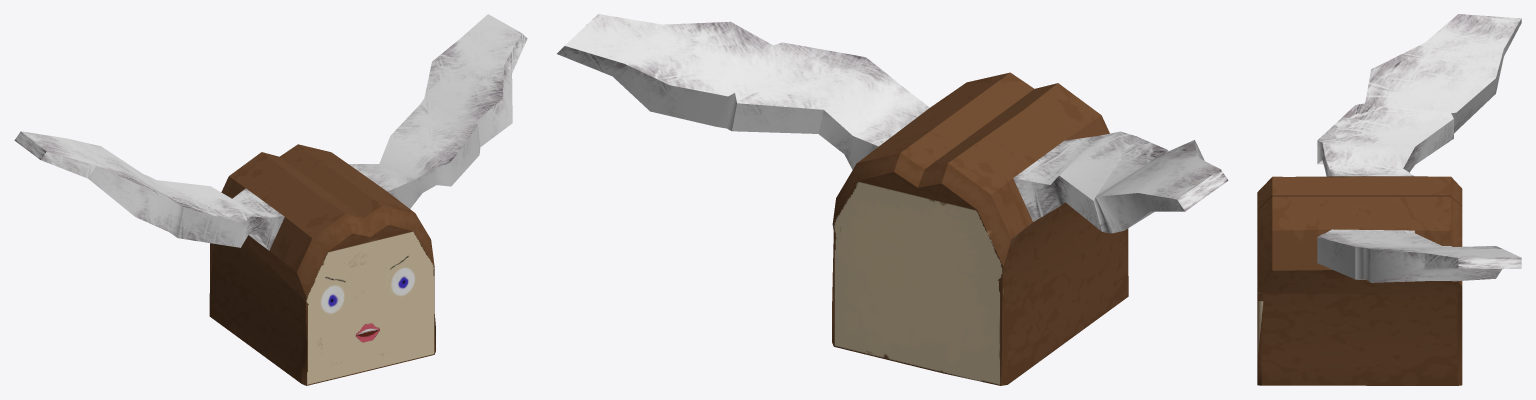
The model's file is FlyingBread.obj.
The picture shows the model from 3 angles, left to right: view 1: azimuth 30°, elevation 25°; view 2: azimuth 150°, elevation 25°; view 3: azimuth 270°, elevation 25°; orthographic projection. The views are drawn at different scales.
Visible parts, largest first — view 1: wingedbread; view 2: wingedbread; view 3: wingedbread.
Boxes of the visible parts, x1,y1,x2,y2 form: wingedbread: (14,14,527,385); wingedbread: (557,14,1228,385); wingedbread: (1257,14,1521,385).
Bounding box in the file's own units: 5.84 × 2.39 × 2.58.
1 material, 1 textured.
